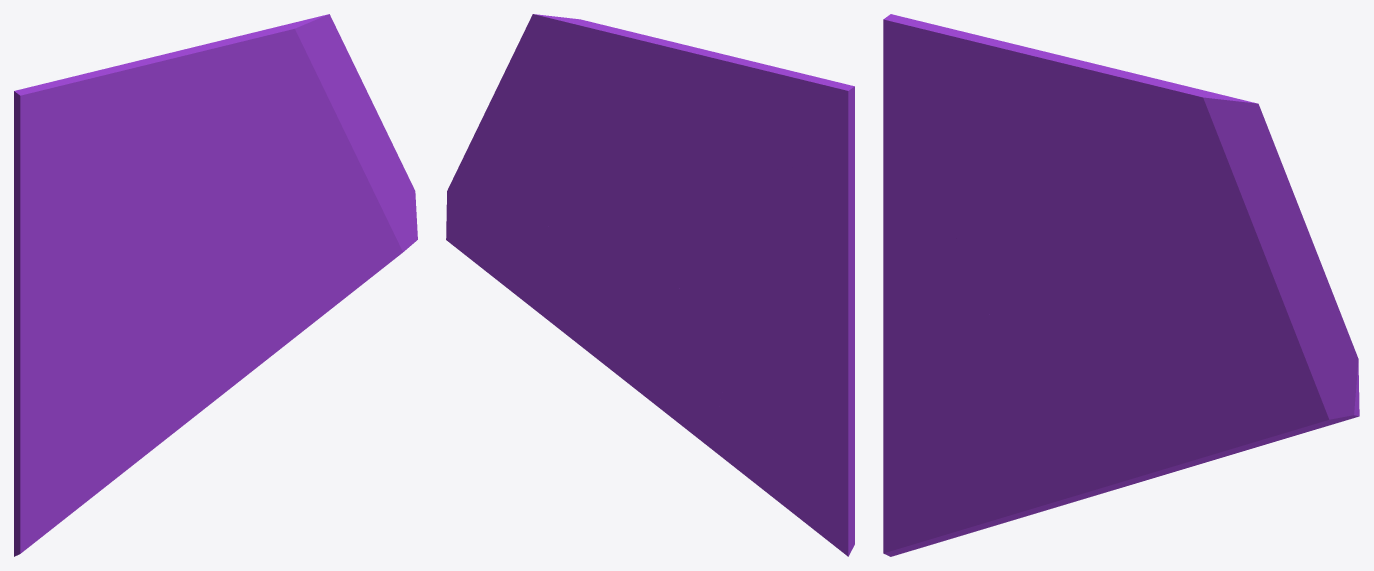
File: Glass_9_0_chunks.fbx
3 views of the same model, side by side, from view 1: azimuth 30°, elevation 25°; view 2: azimuth 150°, elevation 25°; view 3: azimuth 330°, elevation 25° (orthographic). The views are drawn at different scales.
Visible parts, largest first — view 1: Glass_9_0_12, Glass_9_0_11, Glass_9_0_4, Glass_9_0_8, Glass_9_0_21, Glass_9_0_0, Glass_9_0_24, Glass_9_0_19, Glass_9_0_14, Glass_9_0_2, Glass_9_0_7, Glass_9_0_10 (+10 smaller); view 2: Glass_9_0_12, Glass_9_0_5, Glass_9_0_19, Glass_9_0_11, Glass_9_0_7, Glass_9_0_6, Glass_9_0_8, Glass_9_0_17, Glass_9_0_10, Glass_9_0_14, Glass_9_0_13, Glass_9_0_16 (+6 smaller); view 3: Glass_9_0_12, Glass_9_0_11, Glass_9_0_4, Glass_9_0_8, Glass_9_0_21, Glass_9_0_24, Glass_9_0_0, Glass_9_0_7, Glass_9_0_19, Glass_9_0_2, Glass_9_0_10, Glass_9_0_14 (+10 smaller).
Part boxes in pixels (bbox=[...]): Glass_9_0_12: bbox=[166, 14, 365, 143]; Glass_9_0_11: bbox=[286, 89, 417, 232]; Glass_9_0_4: bbox=[16, 207, 157, 437]; Glass_9_0_8: bbox=[185, 228, 376, 321]; Glass_9_0_21: bbox=[14, 377, 147, 555]; Glass_9_0_0: bbox=[85, 55, 189, 184]; Glass_9_0_24: bbox=[132, 314, 252, 420]; Glass_9_0_19: bbox=[14, 304, 124, 496]; Glass_9_0_14: bbox=[14, 168, 116, 344]; Glass_9_0_2: bbox=[144, 155, 242, 276]; Glass_9_0_7: bbox=[251, 231, 417, 371]; Glass_9_0_10: bbox=[194, 100, 291, 229]; Glass_9_0_12: bbox=[496, 14, 698, 144]; Glass_9_0_5: bbox=[631, 53, 786, 217]; Glass_9_0_19: bbox=[736, 281, 854, 496]; Glass_9_0_11: bbox=[446, 89, 581, 229]; Glass_9_0_7: bbox=[446, 228, 625, 380]; Glass_9_0_6: bbox=[616, 279, 792, 428]; Glass_9_0_8: bbox=[499, 224, 671, 312]; Glass_9_0_17: bbox=[628, 204, 756, 296]; Glass_9_0_10: bbox=[574, 90, 681, 225]; Glass_9_0_14: bbox=[750, 163, 854, 342]; Glass_9_0_13: bbox=[760, 70, 854, 169]; Glass_9_0_16: bbox=[808, 113, 854, 290]; Glass_9_0_12: bbox=[1064, 57, 1300, 236]; Glass_9_0_11: bbox=[1193, 212, 1359, 404]; Glass_9_0_4: bbox=[883, 204, 1042, 418]; Glass_9_0_8: bbox=[1076, 301, 1298, 414]; Glass_9_0_21: bbox=[883, 401, 1032, 555]; Glass_9_0_24: bbox=[1013, 391, 1153, 494]; Glass_9_0_0: bbox=[959, 38, 1080, 192]; Glass_9_0_7: bbox=[1150, 381, 1359, 478]; Glass_9_0_19: bbox=[883, 310, 1004, 482]; Glass_9_0_2: bbox=[1027, 182, 1142, 330]; Glass_9_0_10: bbox=[1086, 124, 1198, 326]; Glass_9_0_14: bbox=[883, 146, 995, 302].
Bounding box in the file's own units: 987 × 1092 × 27.2.
